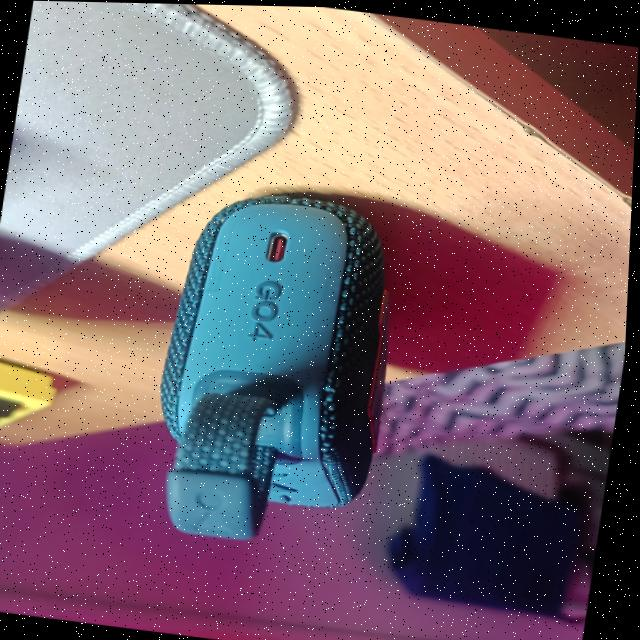column JBL: (164, 194, 390, 537)
